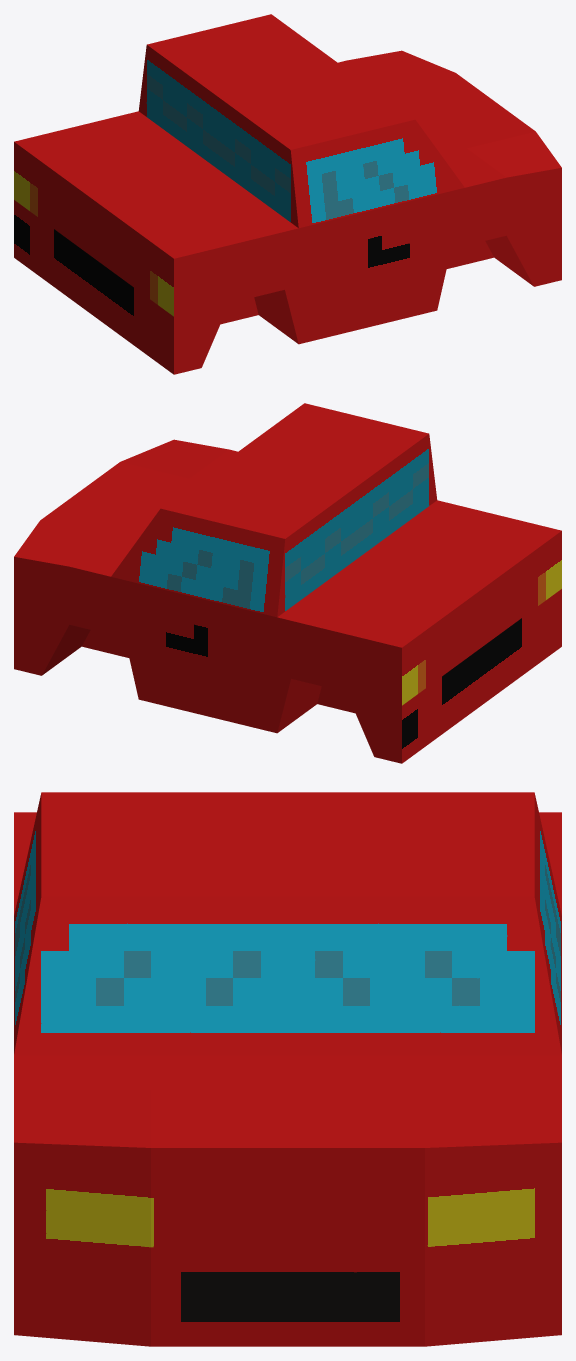
File: car.obj
The picture shows the model from 3 angles, top to bottom: view 1: azimuth 30°, elevation 25°; view 2: azimuth 150°, elevation 25°; view 3: azimuth 270°, elevation 25°; orthographic projection. The views are drawn at different scales.
Visible parts, largest first — view 1: cube; view 2: cube; view 3: cube.
Boxes of the visible parts, <box> form: cube: <box>14,14,561,374</box>; cube: <box>14,403,561,763</box>; cube: <box>14,792,561,1346</box>.
Bounding box in the file's own units: 1.81 × 0.8125 × 1.25.
